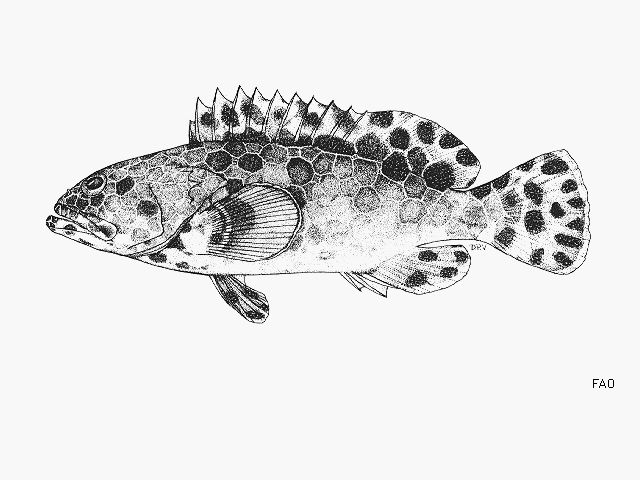fish: (46, 85, 592, 324)
